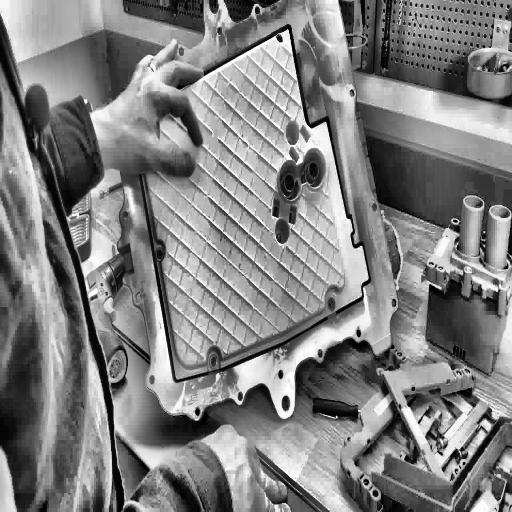bms_unit: (106, 0, 400, 419)
connector: (417, 188, 512, 380)
